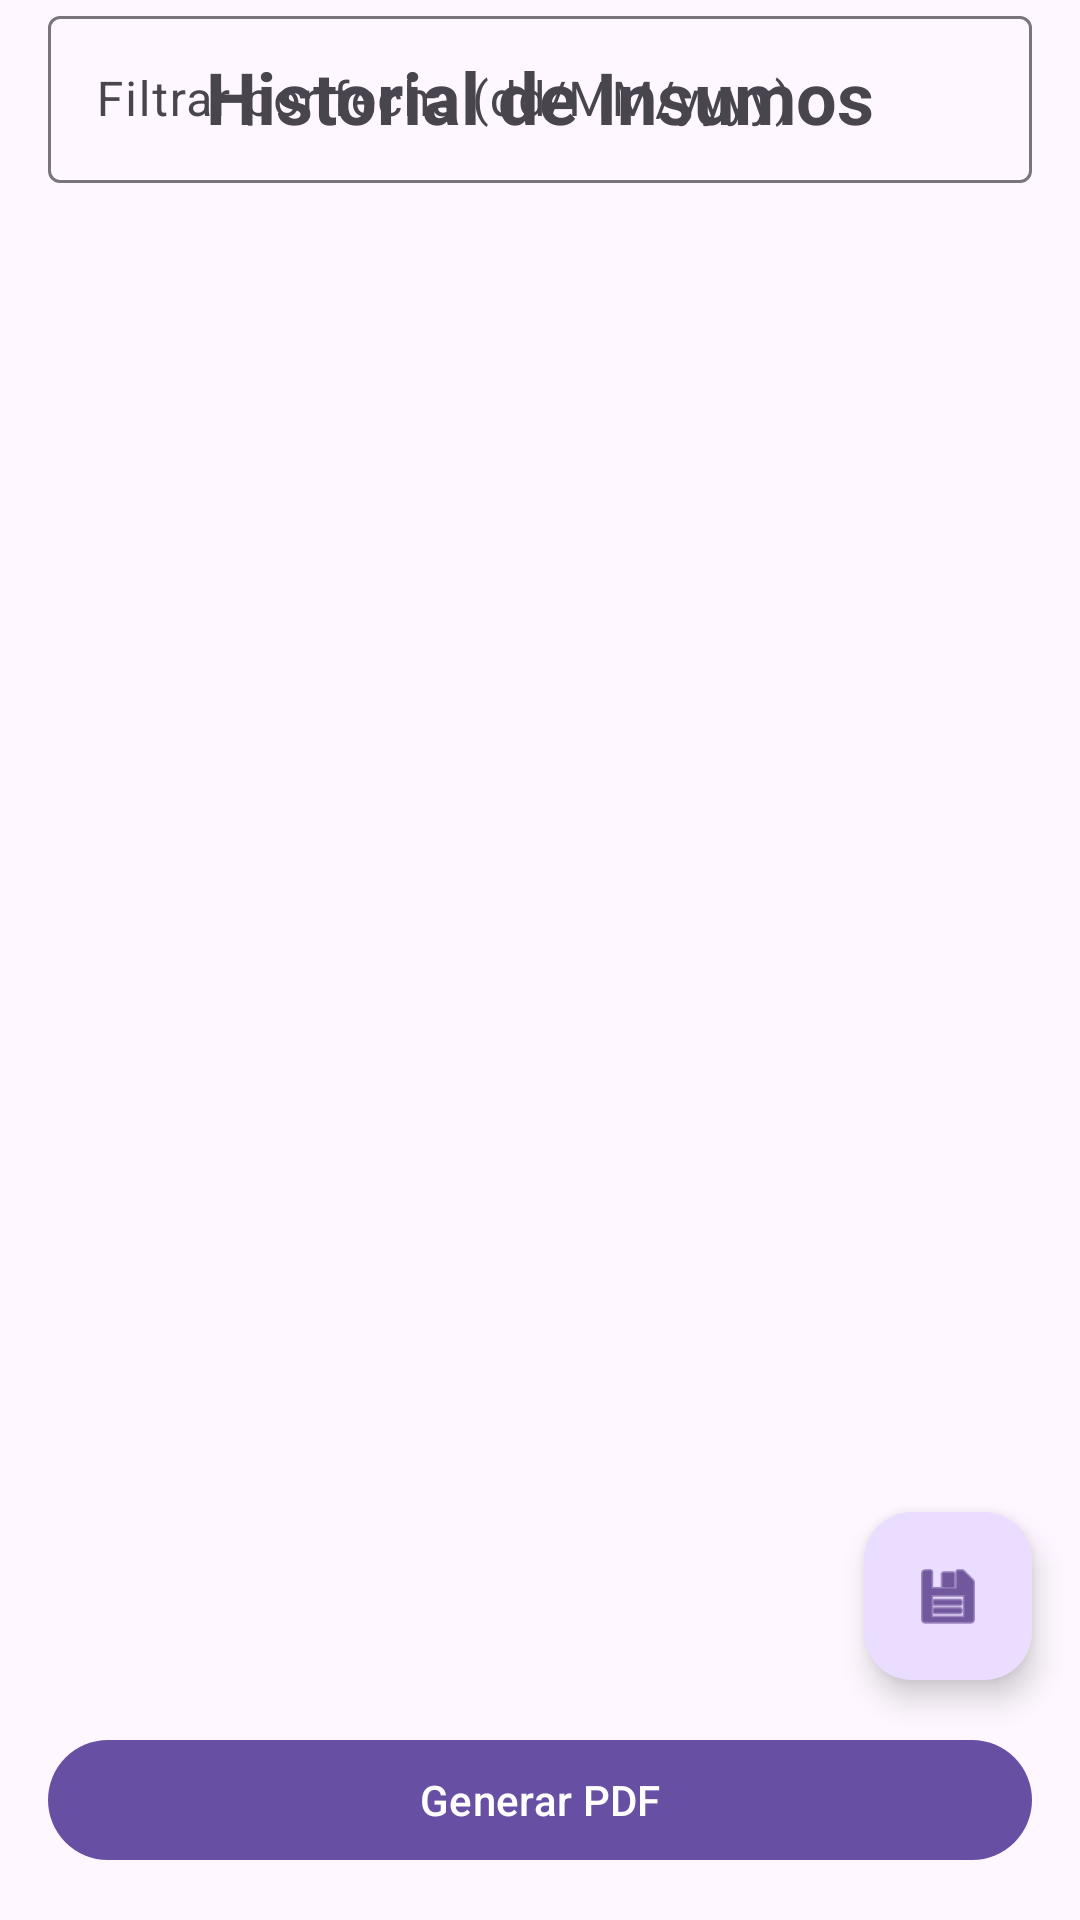

Icon bounding boxes for this 1080*1920 phone screenshot, format (x1, y1, x2, y2):
save: (864, 1512, 1032, 1680)
